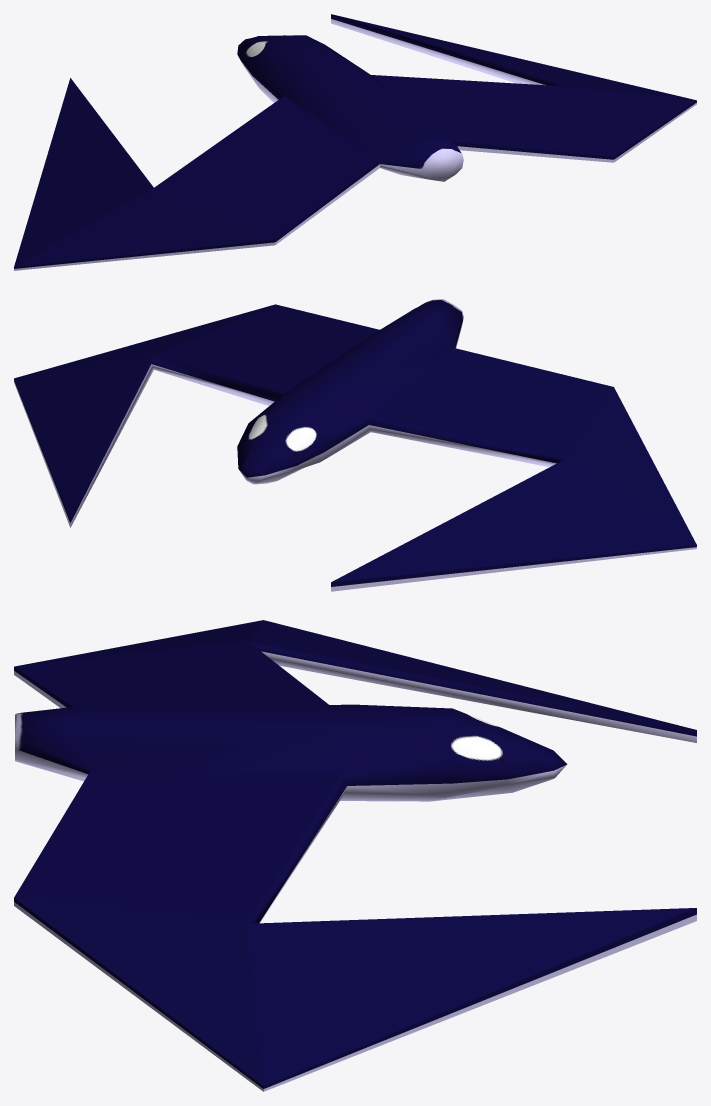
The model's file is planewars.obj.
3 views of the same model, one above another, from view 1: azimuth 30°, elevation 25°; view 2: azimuth 150°, elevation 25°; view 3: azimuth 270°, elevation 25° (orthographic). The views are drawn at different scales.
Parts seen in each view (by area): view 1: plane3_plane3; view 2: plane3_plane3; view 3: plane3_plane3.
Part boxes in pixels (x1=…): plane3_plane3: x1=14, y1=14, x2=696, y2=270; plane3_plane3: x1=14, y1=299, x2=696, y2=591; plane3_plane3: x1=14, y1=620, x2=696, y2=1091.
Bounding box in the file's own units: 4.56 × 0.6516 × 2.82.
Materials: 1 (1 with a texture image).
